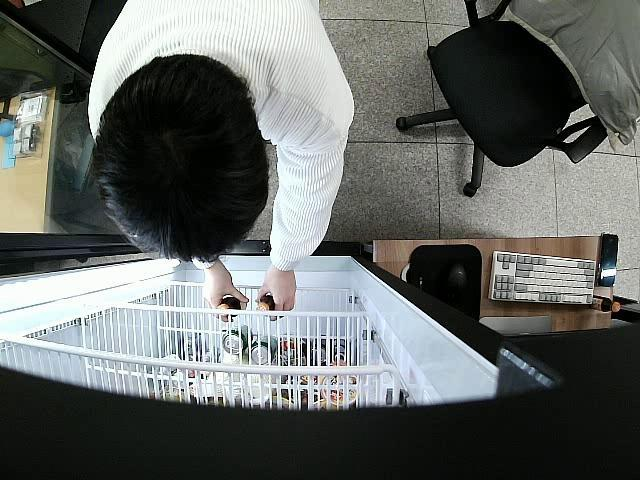17_vita500: (218, 296, 242, 317), (256, 295, 275, 319)
